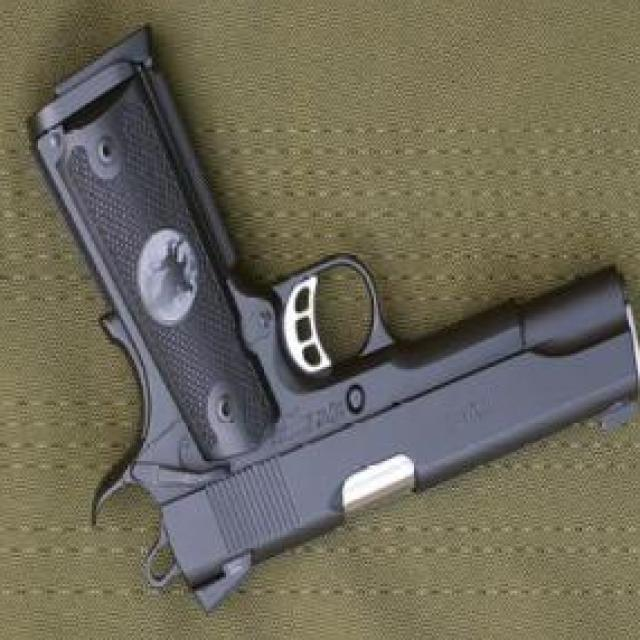pistol: (22, 27, 640, 615)
